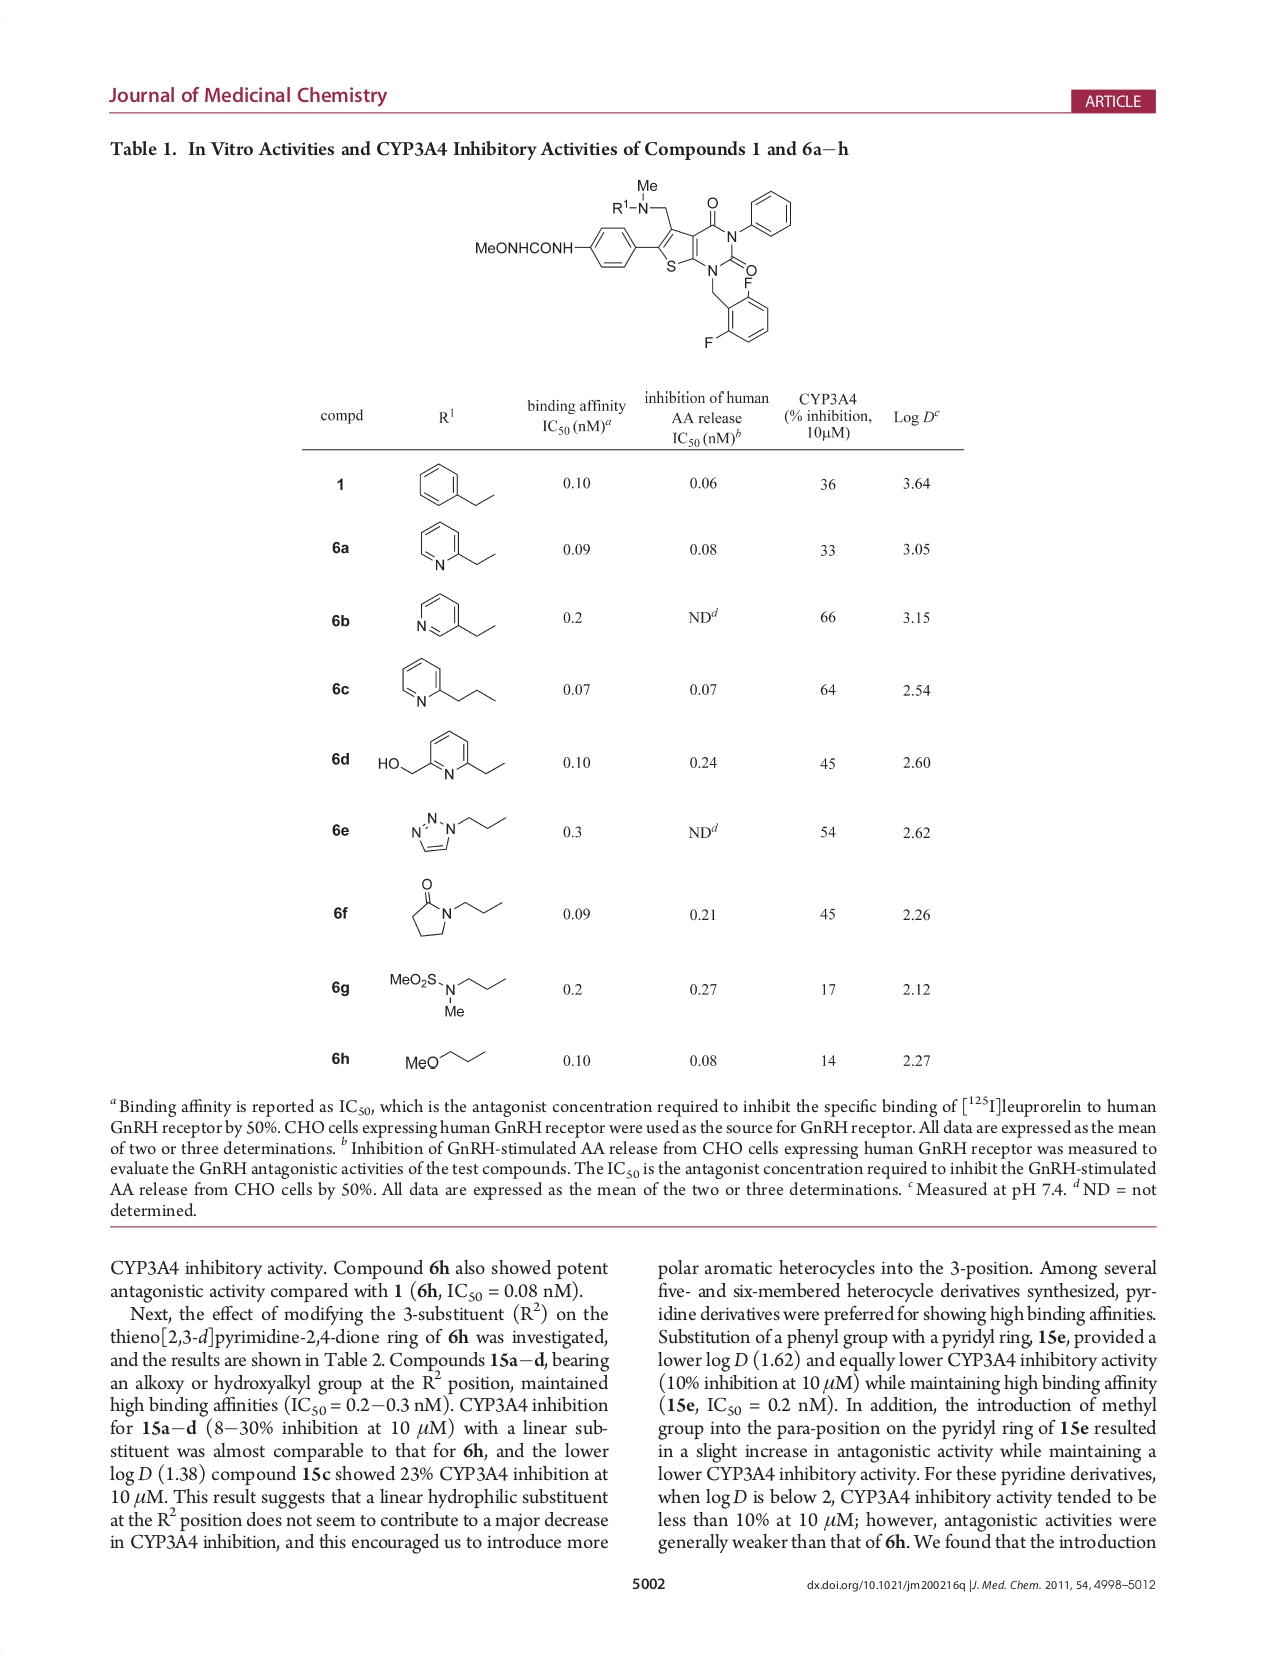exist_molecular: (472, 176, 797, 352), (372, 725, 508, 781), (384, 962, 507, 1023), (408, 872, 505, 940), (394, 652, 499, 713), (404, 801, 511, 856), (414, 517, 496, 576), (411, 457, 499, 509), (410, 588, 497, 640), (396, 1041, 487, 1079)
